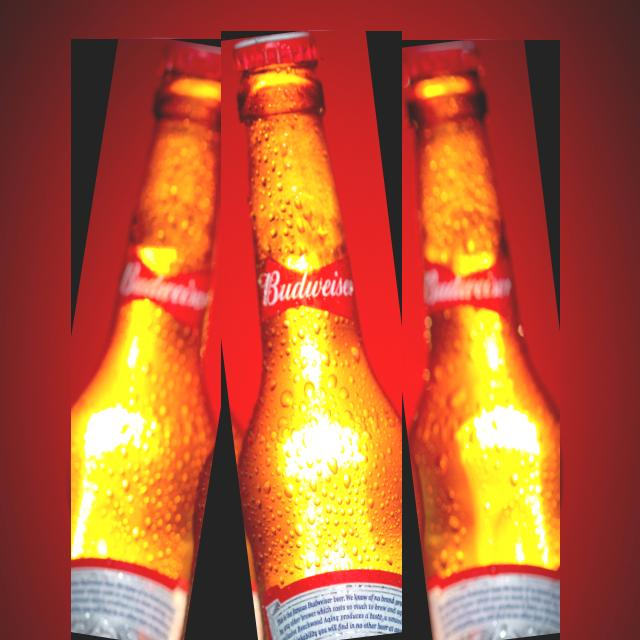Bottle: (221, 32, 401, 639), (397, 41, 559, 639), (72, 40, 230, 639)
